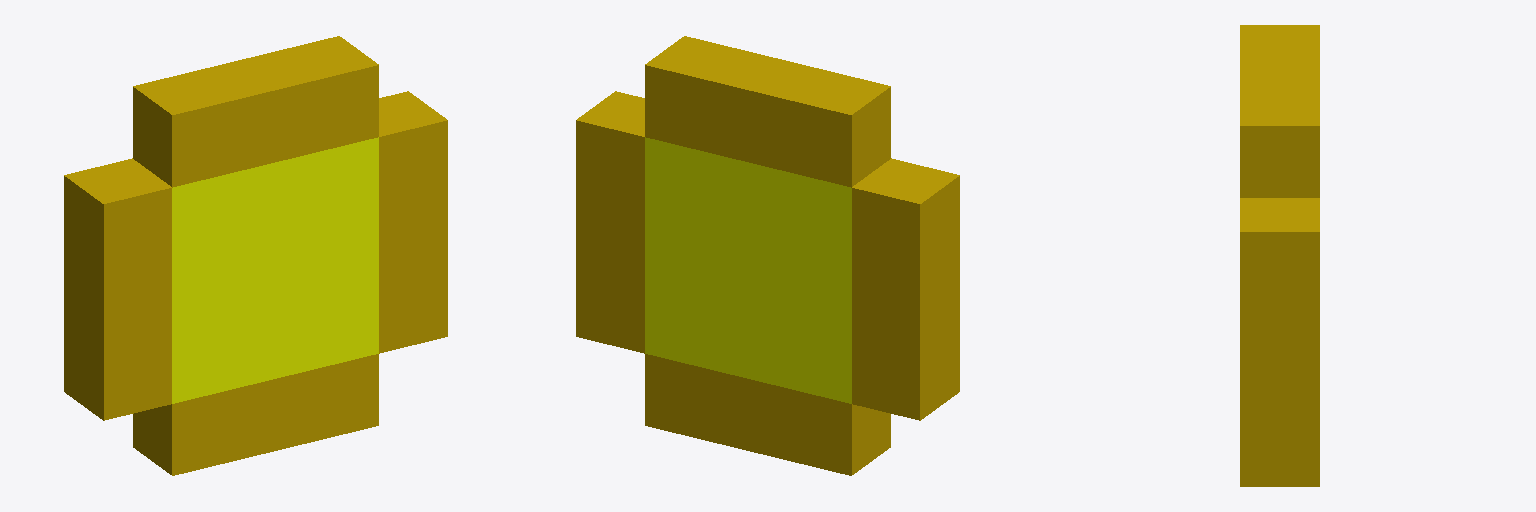
3 views of the same model, side by side, from view 1: azimuth 30°, elevation 25°; view 2: azimuth 150°, elevation 25°; view 3: azimuth 270°, elevation 25° (orthographic).
Parts seen in each view (by area): view 1: object 1; view 2: object 1; view 3: object 1.
Part boxes in pixels (left/top/right/bottom): object 1: left=64, top=36, right=447, bottom=475; object 1: left=576, top=36, right=959, bottom=475; object 1: left=1240, top=25, right=1319, bottom=486.
Size of the model in its own units: 0.5 by 0.5 by 0.1.
Materials: 1 (1 with a texture image).